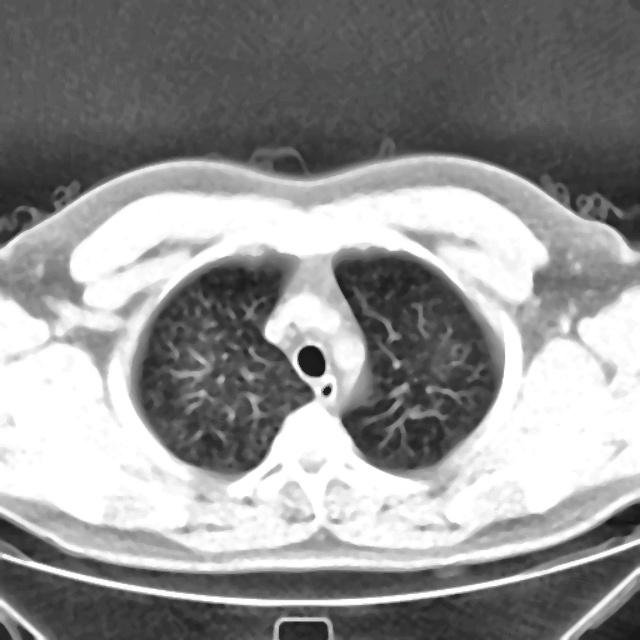covid: (0, 150, 638, 575)
